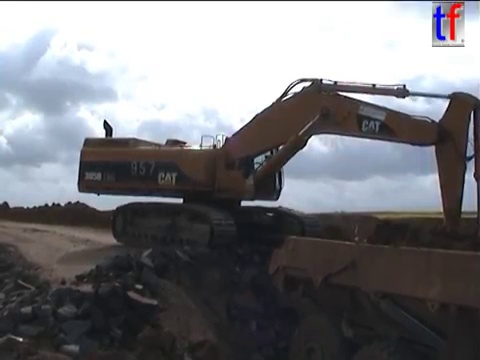excavator: (73, 74, 479, 288)
truck: (264, 215, 480, 360)
